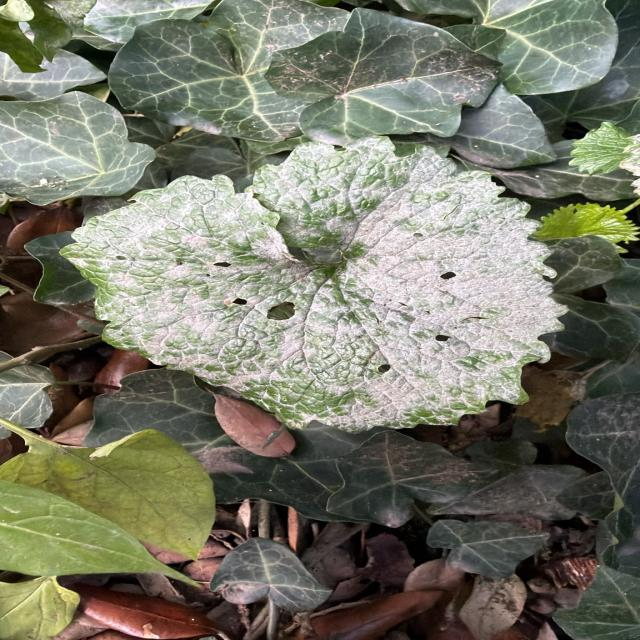powdery_mildew: (61, 138, 563, 430)
